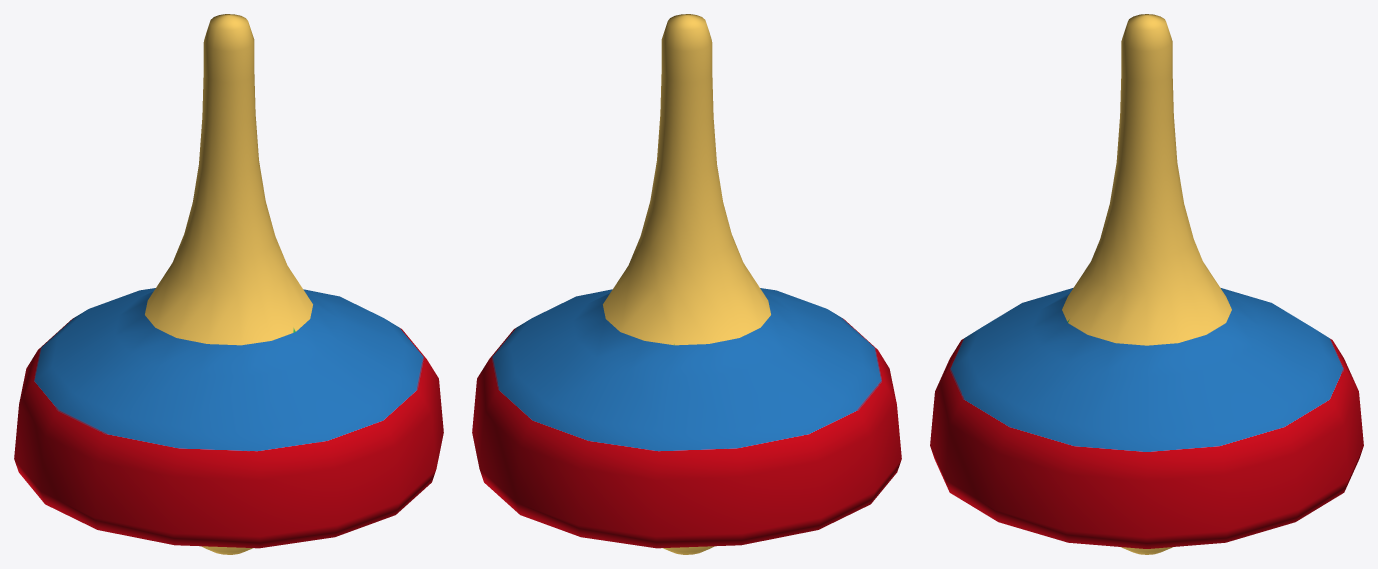
Rendered from O_TopSpin.fbx.
3 views of the same model, side by side, from view 1: azimuth 30°, elevation 25°; view 2: azimuth 150°, elevation 25°; view 3: azimuth 270°, elevation 25° (orthographic).
Visible parts, largest first — view 1: pCube1; view 2: pCube1; view 3: pCube1.
Boxes of the visible parts, <box> form: pCube1: <box>14,14,443,554</box>; pCube1: <box>472,14,901,554</box>; pCube1: <box>930,14,1363,554</box>.
Bounding box in the file's own units: 21.3 × 28.92 × 21.3.
